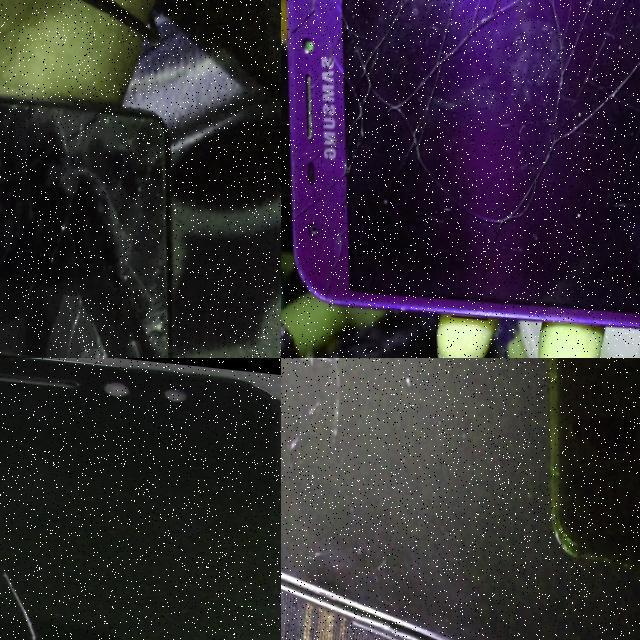scratch: (0, 550, 66, 640)
screen crack: (289, 0, 615, 280), (281, 358, 432, 562), (26, 231, 184, 358)
